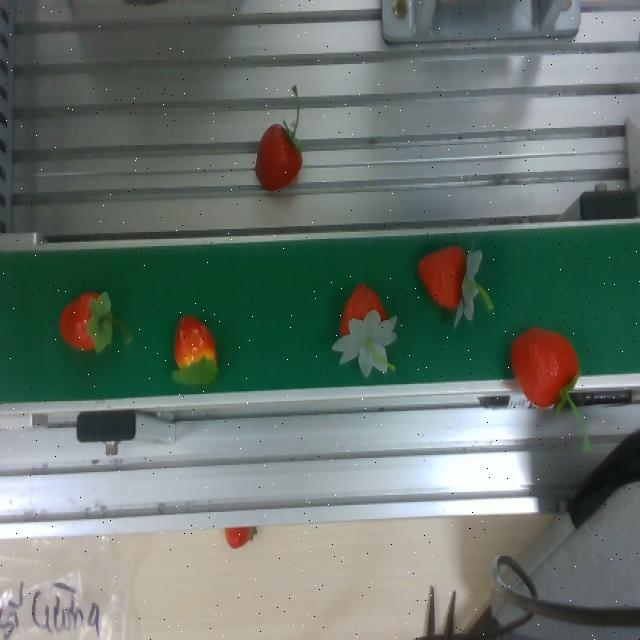Large Ripe Strawberry: (506, 326, 584, 412)
Small Ripe Strawberry: (416, 236, 488, 316), (339, 278, 396, 364), (54, 288, 122, 352)
Small Unripe Strawberry: (168, 310, 225, 380)
conveyor: (0, 236, 640, 394)
